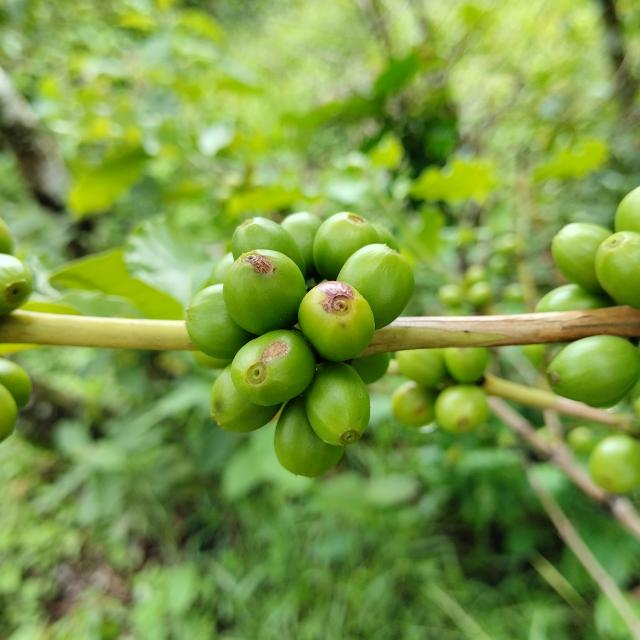green: (223, 249, 306, 335), (548, 335, 640, 408), (337, 244, 415, 329), (230, 329, 316, 406), (230, 330, 316, 406), (298, 281, 375, 362), (274, 395, 346, 478), (305, 361, 370, 446), (185, 284, 256, 360), (210, 365, 281, 433), (313, 211, 379, 280), (231, 217, 306, 276), (552, 222, 612, 293), (596, 231, 640, 309), (280, 211, 323, 276), (536, 283, 614, 312)
